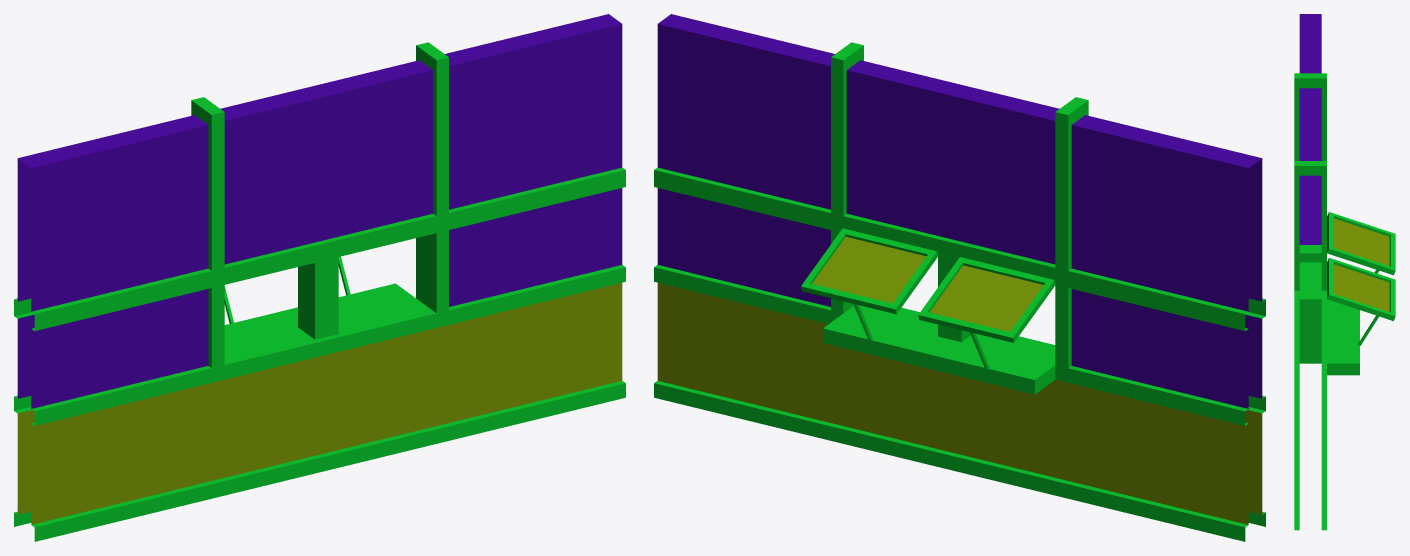
Rendered from ModelTavernLokiArchitectureWindow.FBX.
3 renders of one model, left to right at view 1: azimuth 30°, elevation 25°; view 2: azimuth 150°, elevation 25°; view 3: azimuth 270°, elevation 25°, orthographic. The views are drawn at different scales.
Visible parts, largest first — view 1: Mur + Fenetre; view 2: Mur + Fenetre, Volet Droit, Volet Gauche; view 3: Mur + Fenetre, Volet Gauche, Volet Droit.
Part boxes in pixels (<box>): Mur + Fenetre: <box>14,14,625,541</box>; Mur + Fenetre: <box>654,14,1265,541</box>; Volet Droit: <box>918,257,1055,342</box>; Volet Gauche: <box>801,228,938,314</box>; Mur + Fenetre: <box>1294,14,1359,530</box>; Volet Gauche: <box>1327,258,1395,321</box>; Volet Droit: <box>1327,212,1395,275</box>.
Bounding box in the file's own units: 500 × 310 × 92.82.
